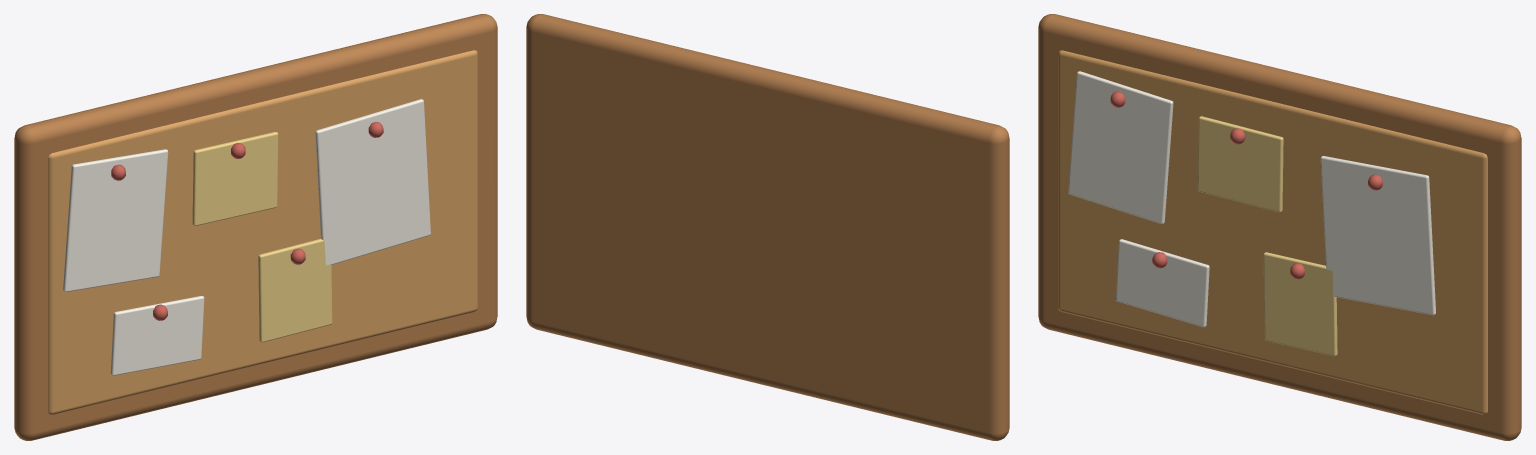
Rendered from cork_board.glb.
3 renders of one model, left to right at view 1: azimuth 30°, elevation 25°; view 2: azimuth 150°, elevation 25°; view 3: azimuth 330°, elevation 25°, orthographic.
Parts seen in each view (by area): view 1: cork_board_mesh; view 2: cork_board_mesh; view 3: cork_board_mesh.
Part boxes in pixels (x1=…): cork_board_mesh: x1=14, y1=14, x2=497, y2=440; cork_board_mesh: x1=526, y1=14, x2=1009, y2=440; cork_board_mesh: x1=1038, y1=14, x2=1521, y2=440.
Bounding box in the file's own units: 0.8 × 0.5 × 0.0664.
